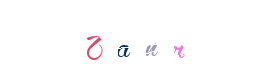2: (53, 0, 133, 80)
A: (83, 0, 163, 80)
N: (100, 0, 180, 80)
R: (102, 0, 182, 80)
